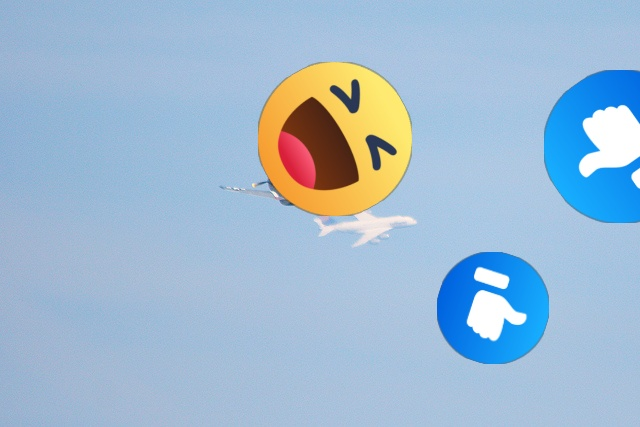haha: (258, 62, 412, 216)
like: (544, 70, 640, 223), (437, 252, 549, 364)
